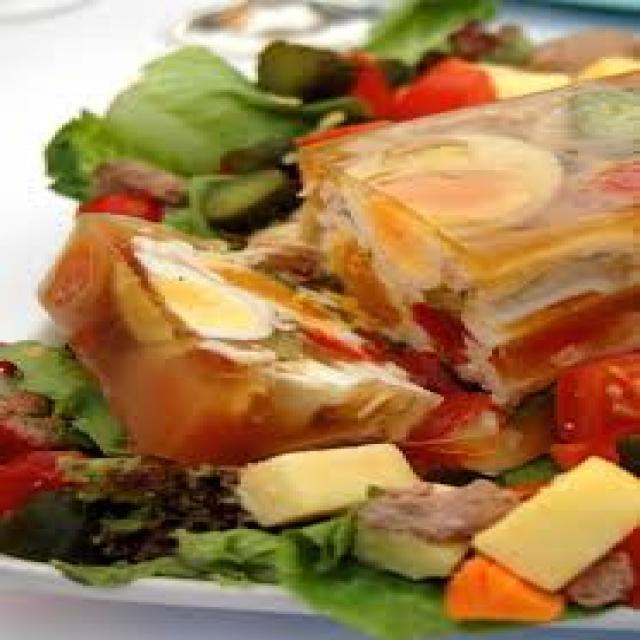organic waste: (38, 205, 495, 463), (293, 57, 636, 392), (97, 40, 286, 173), (272, 508, 451, 635), (464, 458, 636, 586), (0, 338, 120, 515), (337, 477, 537, 576), (49, 449, 238, 550), (230, 442, 413, 531), (413, 388, 540, 480), (141, 517, 320, 579), (347, 0, 498, 68), (155, 166, 296, 238), (430, 553, 568, 621), (0, 482, 103, 564), (554, 352, 637, 451), (41, 109, 134, 191), (392, 54, 502, 114), (45, 546, 196, 584), (224, 80, 368, 116), (251, 40, 341, 95), (509, 33, 637, 71), (69, 182, 158, 229), (564, 555, 637, 609), (344, 50, 399, 120), (275, 113, 389, 144), (485, 62, 571, 100), (213, 128, 289, 170), (103, 154, 179, 194), (537, 437, 612, 475), (571, 52, 637, 85), (434, 19, 488, 59), (488, 21, 536, 52), (413, 50, 475, 73)
